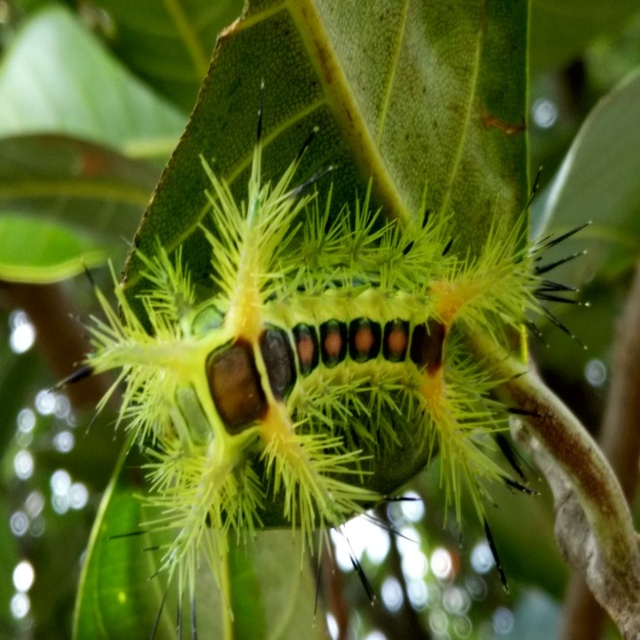Caterpillar: (42, 74, 590, 639)
